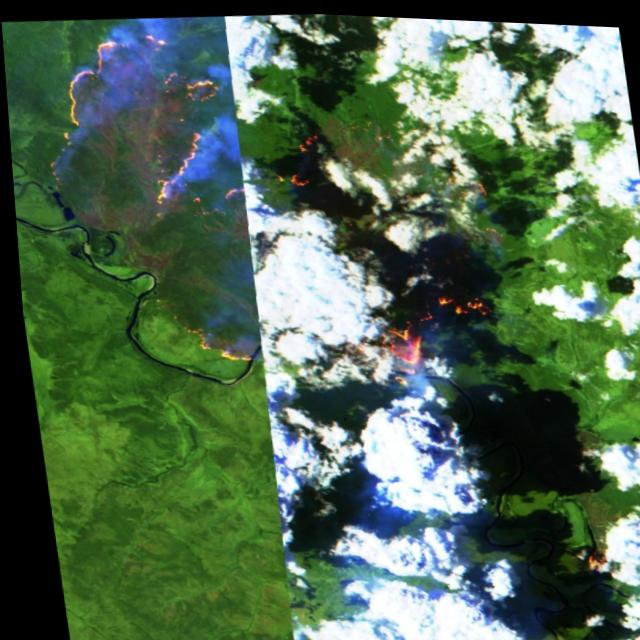fire: (20, 19, 269, 377), (330, 280, 503, 385), (256, 124, 328, 195), (553, 535, 628, 582)
